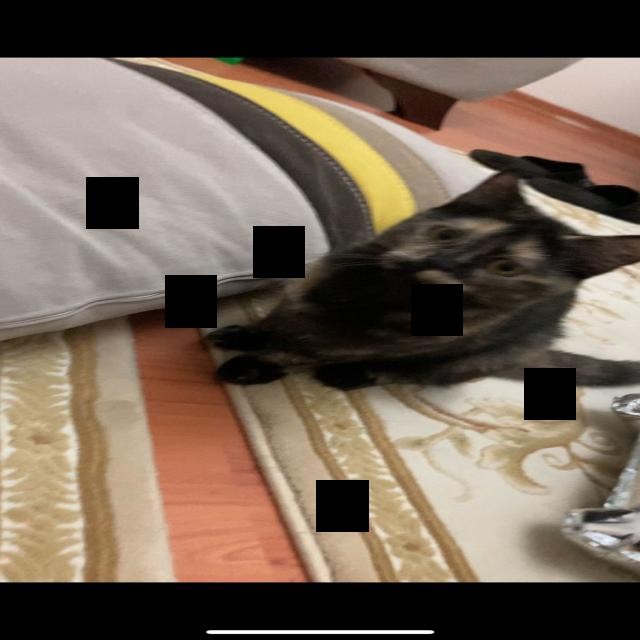authorized: (202, 168, 638, 391)
